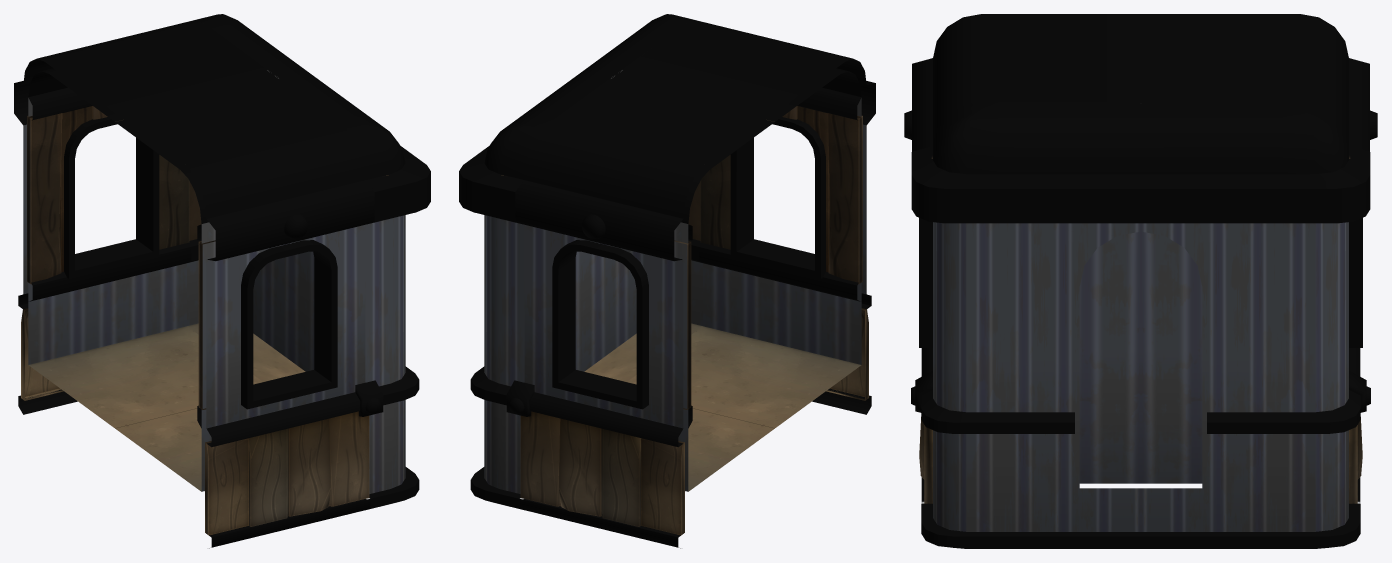
The model's file is SM_LOCMOTIVE_AVANT.fbx.
3 views of the same model, side by side, from view 1: azimuth 30°, elevation 25°; view 2: azimuth 150°, elevation 25°; view 3: azimuth 270°, elevation 25° (orthographic). The views are drawn at different scales.
Visible parts, largest first — view 1: polySurface1526; view 2: polySurface1526; view 3: polySurface1526.
Boxes of the visible parts, box(x1,y1,x2,y2) form: polySurface1526: box(14, 14, 430, 548); polySurface1526: box(459, 14, 875, 548); polySurface1526: box(904, 14, 1377, 548).
Bounding box in the file's own units: 2.85 × 4.44 × 4.55.
